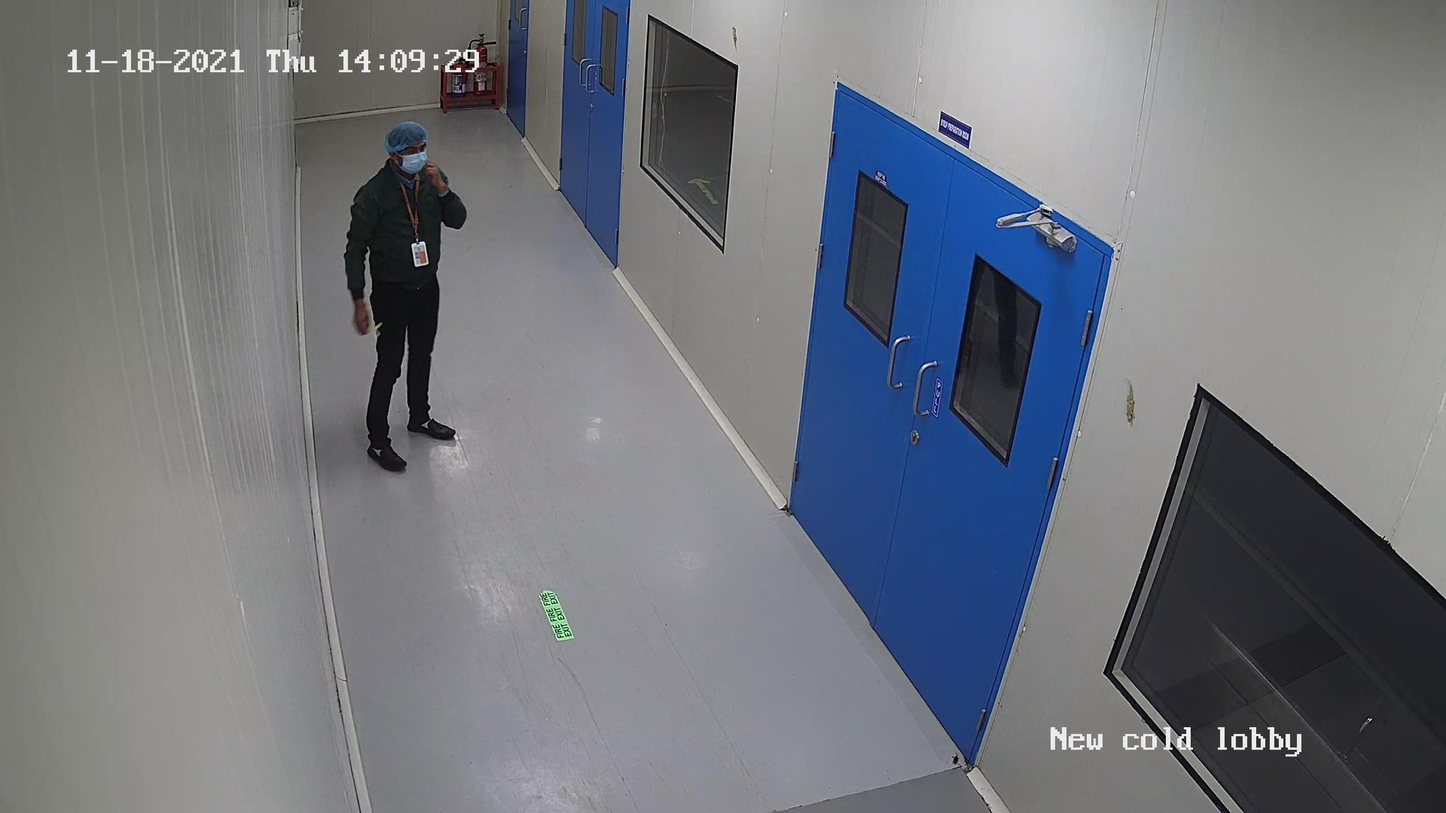cockroach: (951, 750, 962, 766)
lizard: (1119, 375, 1139, 426), (723, 21, 746, 51)
